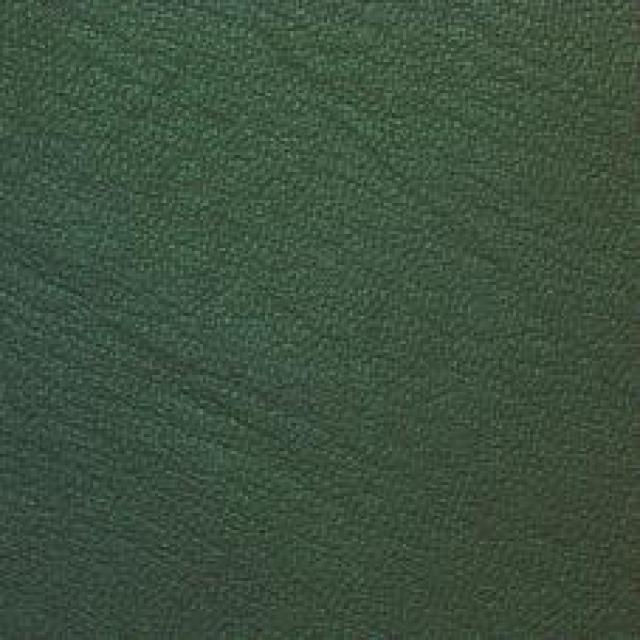Growth Marks: (56, 263, 314, 468), (265, 25, 558, 146)
